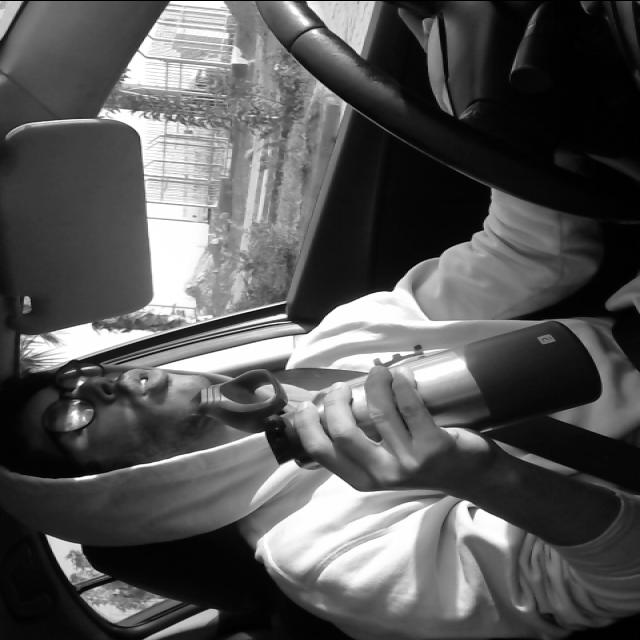drinking: (190, 316, 606, 467)
